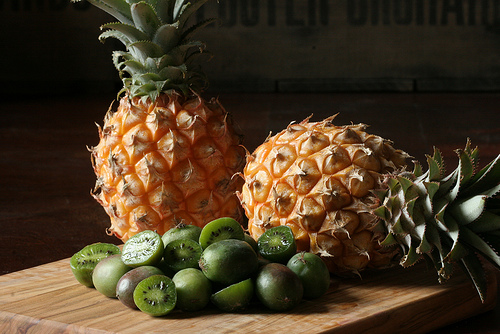pineapple: (228, 109, 499, 306), (85, 0, 250, 247)
